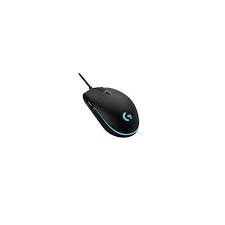mouse: (85, 84, 143, 138)
